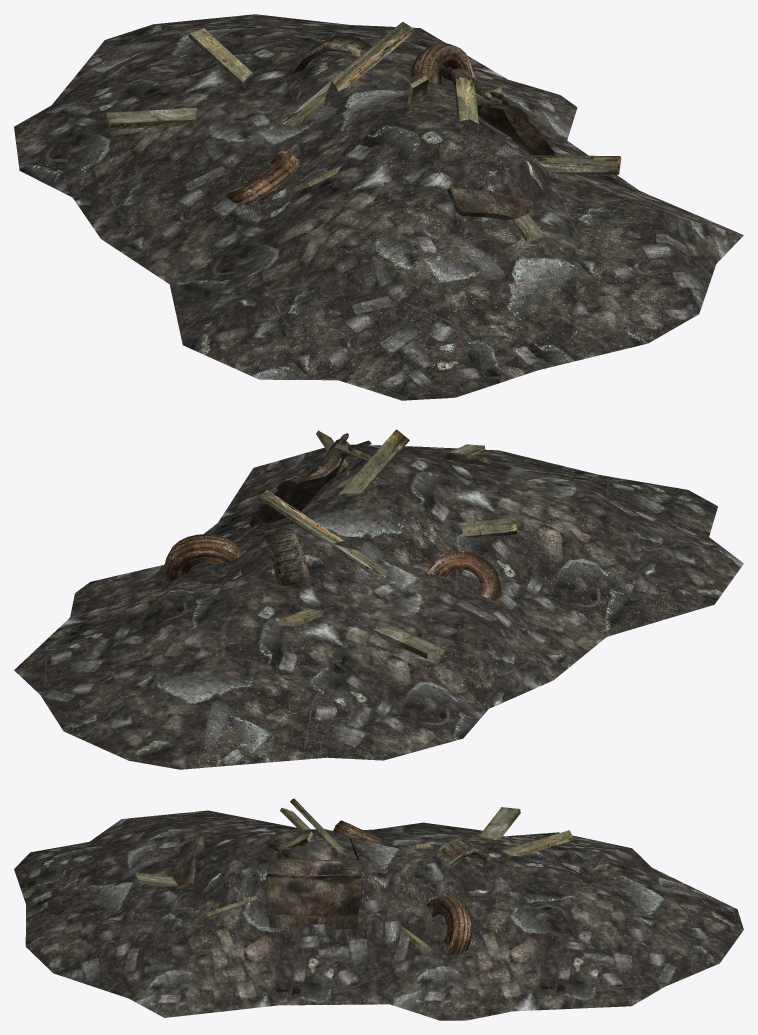
Rendered from Pile01.FBX.
The picture shows the model from 3 angles, top to bottom: view 1: azimuth 30°, elevation 25°; view 2: azimuth 150°, elevation 25°; view 3: azimuth 270°, elevation 25°; orthographic projection. The views are drawn at different scales.
Parts seen in each view (by area): view 1: SuburbanRubblePile01:0, Wood01:1, CarHollow01:4, Tires01:3; view 2: SuburbanRubblePile01:0, Wood01:1, CarHollow01:4, Tires01:3; view 3: SuburbanRubblePile01:0, CarHollow01:4, Wood01:1, Tires01:3.
Part boxes in pixels (x1,y1,x2,y2): SuburbanRubblePile01:0: [14, 14, 743, 400]; Wood01:1: [106, 21, 621, 242]; CarHollow01:4: [287, 35, 554, 220]; Tires01:3: [225, 43, 477, 204]; SuburbanRubblePile01:0: [14, 444, 743, 769]; Wood01:1: [259, 429, 517, 659]; CarHollow01:4: [250, 433, 490, 587]; Tires01:3: [164, 534, 502, 600]; SuburbanRubblePile01:0: [14, 810, 743, 1020]; CarHollow01:4: [173, 836, 493, 929]; Wood01:1: [134, 798, 573, 952]; Tires01:3: [333, 820, 472, 954].
Size of the model in its own units: 4.72 by 1.33 by 6.94.
